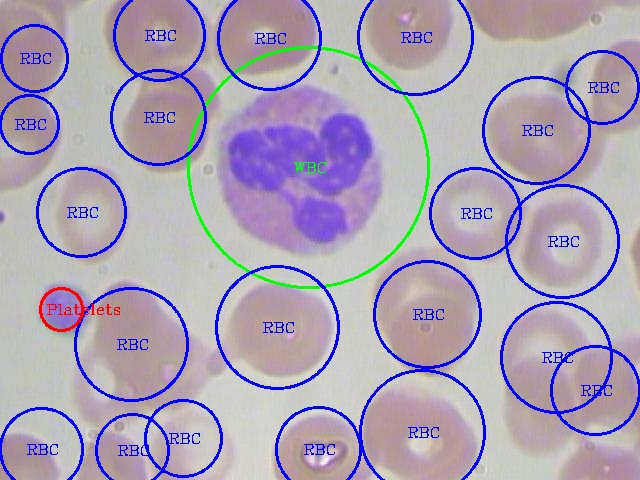Platelets: (31, 274, 97, 340)
RBC: (74, 277, 206, 422), (356, 380, 483, 479), (482, 86, 598, 188), (225, 276, 339, 378), (423, 162, 532, 261), (491, 300, 596, 393), (48, 160, 140, 265), (116, 79, 216, 175), (517, 192, 611, 289), (495, 357, 585, 456), (208, 0, 323, 75), (383, 288, 480, 375), (375, 247, 480, 325), (99, 0, 208, 75), (265, 406, 371, 478), (1, 3, 71, 106), (145, 404, 242, 478), (572, 324, 639, 429), (0, 91, 68, 193), (360, 0, 455, 72), (589, 34, 639, 132), (460, 1, 564, 45)
WBC: (208, 76, 399, 265)
